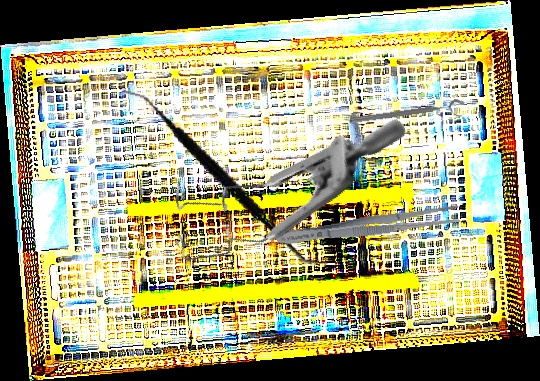Dressing Forceps: (274, 201, 461, 251)
Fixation Ring: (349, 98, 467, 133)
Spatula Surgical: (94, 84, 356, 269)
Speculum: (143, 38, 410, 325)
